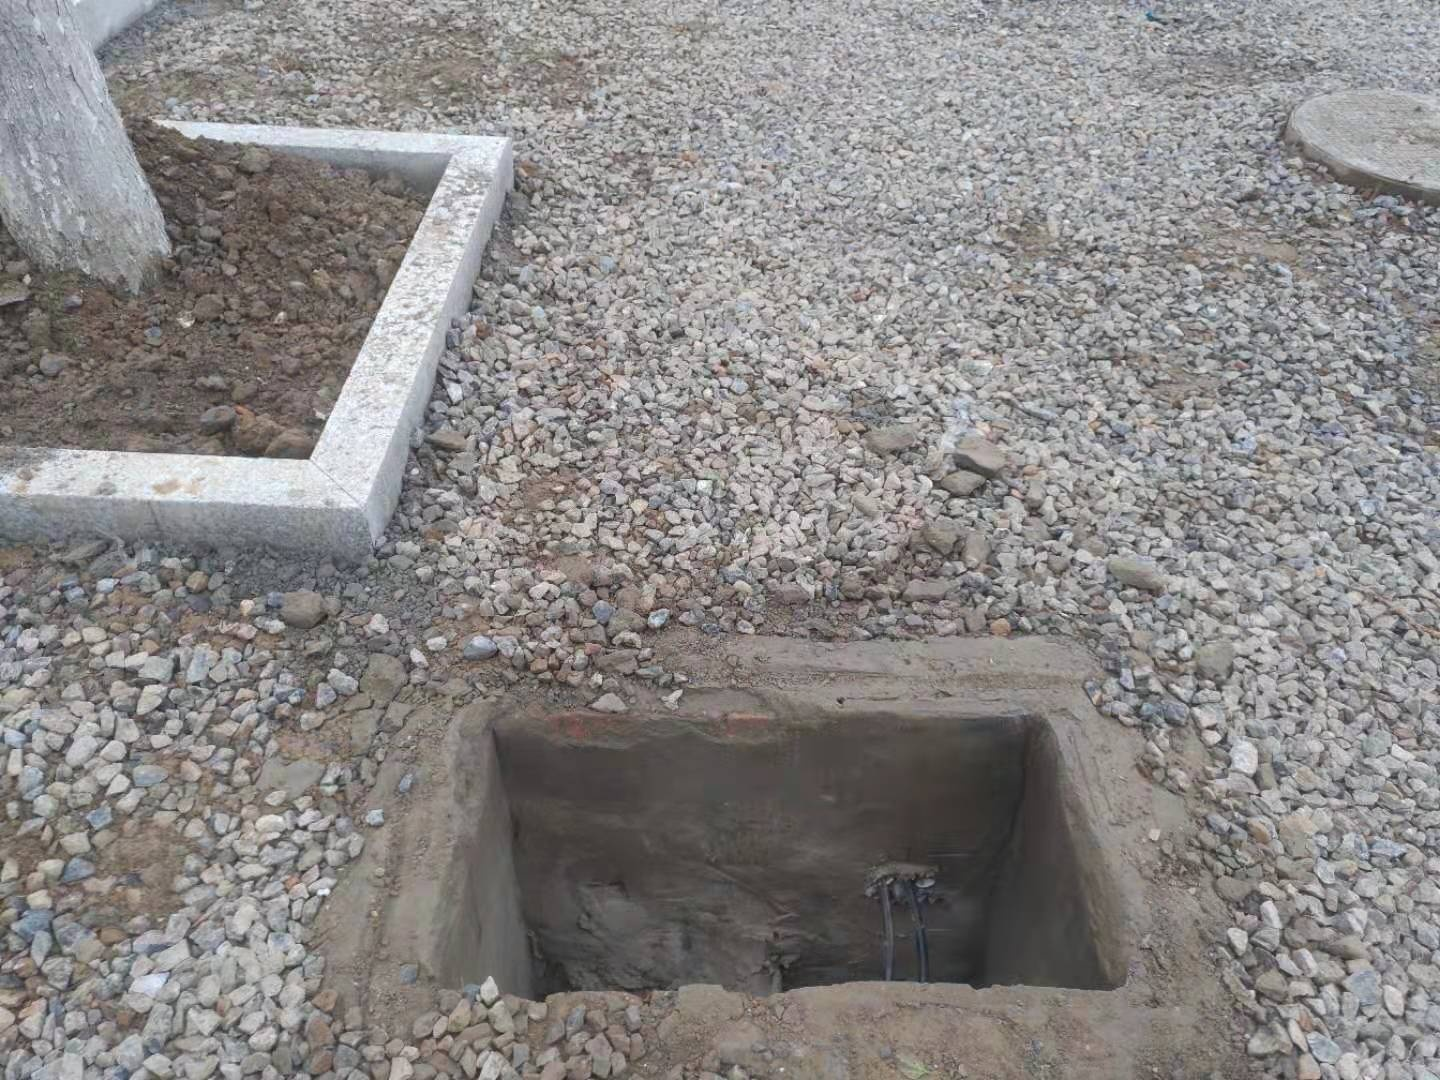lose: (414, 665, 1152, 1016)
